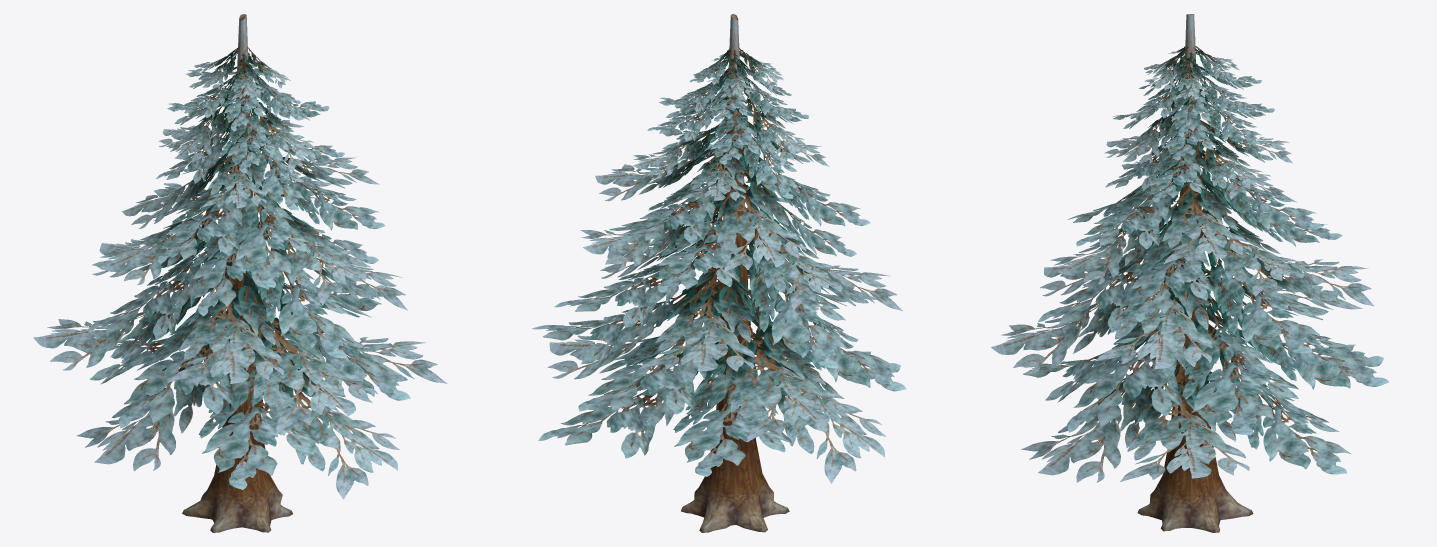
Rendered from SpruceTree_2sides.FBX.
3 renders of one model, left to right at view 1: azimuth 30°, elevation 25°; view 2: azimuth 150°, elevation 25°; view 3: azimuth 270°, elevation 25°, orthographic.
Parts seen in each view (by area): view 1: SpriceTree_2sides; view 2: SpriceTree_2sides; view 3: SpriceTree_2sides.
Part boxes in pixels (<box>): SpriceTree_2sides: <box>33,14,447,532</box>; SpriceTree_2sides: <box>532,14,906,532</box>; SpriceTree_2sides: <box>991,14,1388,532</box>.
Bounding box in the file's own units: 81.26 × 79.4 × 97.61.
